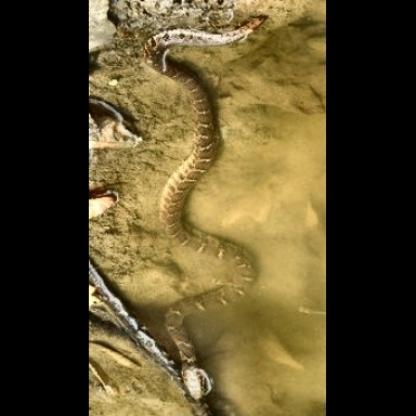Snake: (140, 7, 262, 416), (143, 2, 270, 235)
